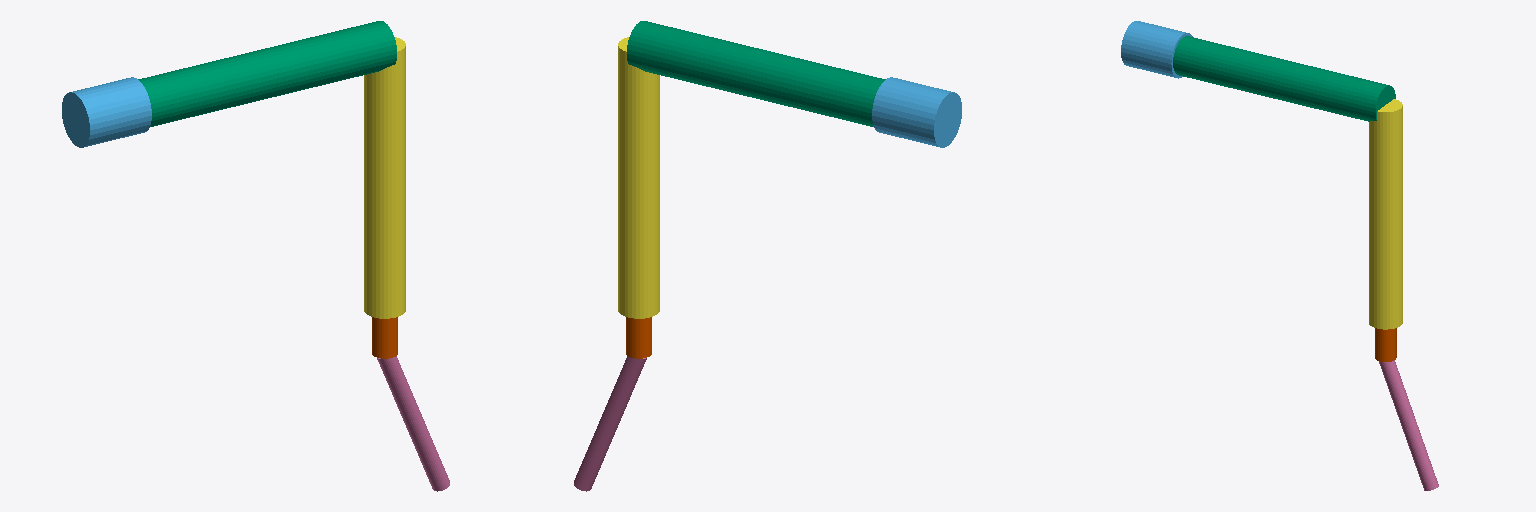
The robot description file, URDF, robot "fanuc_arc_mate_100id":
<?xml version="1.0"?>
<!--
  Fanuc ARC Mate 100iD
  GENERATED by weldforge.kin.urdf from data/robots/. Do not edit by
  hand: regenerate instead, or the URDF and the planner's kinematics
  will drift apart.

  Link inertias are placeholders (uniform boxes). Replace them with
  manufacturer data before using this model for dynamics.
-->
<robot name="fanuc_arc_mate_100id">

  <link name="base_link">
    <inertial>
      <origin xyz="0 0 0" rpy="0 0 0"/>
      <mass value="50.0000"/>
      <inertia ixx="0.750000" ixy="0" ixz="0" iyy="0.750000" iyz="0" izz="0.750000"/>
    </inertial>
  </link>

  <joint name="joint_1" type="revolute">
    <parent link="base_link"/>
    <child link="link_1"/>
    <origin xyz="0.000000000 -0.000000000 0.450000000" rpy="0.000000000 -0.000000000 0.000000000"/>
    <axis xyz="0 0 1"/>
    <limit lower="-2.967059728" upper="2.967059728" effort="1000" velocity="3.665191"/>
    <dynamics damping="0.5" friction="0.1"/>
  </joint>

  <link name="link_1">
    <inertial>
      <origin xyz="0 0 0" rpy="0 0 0"/>
      <mass value="40.0000"/>
      <inertia ixx="0.150000" ixy="0" ixz="0" iyy="0.150000" iyz="0" izz="0.150000"/>
    </inertial>
    <visual>
      <origin xyz="0.075000000 0.000000000 0.000000000" rpy="-0.000000000 1.570796327 0.000000000"/>
      <geometry><cylinder radius="0.0600" length="0.1500"/></geometry>
    </visual>
    <collision>
      <origin xyz="0.075000000 0.000000000 0.000000000" rpy="-0.000000000 1.570796327 0.000000000"/>
      <geometry><cylinder radius="0.0600" length="0.1500"/></geometry>
    </collision>
  </link>

  <joint name="joint_2" type="revolute">
    <parent link="link_1"/>
    <child link="link_2"/>
    <origin xyz="0.150000000 0.000000000 0.000000000" rpy="-1.570796327 0.000000000 0.000000000"/>
    <axis xyz="0 0 1"/>
    <limit lower="-1.745329252" upper="2.530727415" effort="1000" velocity="3.665191"/>
    <dynamics damping="0.5" friction="0.1"/>
  </joint>

  <link name="link_2">
    <inertial>
      <origin xyz="0 0 0" rpy="0 0 0"/>
      <mass value="35.0000"/>
      <inertia ixx="2.100000" ixy="0" ixz="0" iyy="2.100000" iyz="0" izz="2.100000"/>
    </inertial>
    <visual>
      <origin xyz="0.300000000 -0.000000000 0.000000000" rpy="-0.000000000 1.570796327 0.000000000"/>
      <geometry><cylinder radius="0.0520" length="0.6000"/></geometry>
    </visual>
    <collision>
      <origin xyz="0.300000000 -0.000000000 0.000000000" rpy="-0.000000000 1.570796327 0.000000000"/>
      <geometry><cylinder radius="0.0520" length="0.6000"/></geometry>
    </collision>
  </link>

  <joint name="joint_3" type="revolute">
    <parent link="link_2"/>
    <child link="link_3"/>
    <origin xyz="0.600000000 -0.000000000 0.000000000" rpy="0.000000000 -0.000000000 0.000000000"/>
    <axis xyz="0 0 1"/>
    <limit lower="-3.839724354" upper="4.363323130" effort="1000" velocity="3.926991"/>
    <dynamics damping="0.5" friction="0.1"/>
  </joint>

  <link name="link_3">
    <inertial>
      <origin xyz="0 0 0" rpy="0 0 0"/>
      <mass value="30.0000"/>
      <inertia ixx="1.891125" ixy="0" ixz="0" iyy="1.891125" iyz="0" izz="1.891125"/>
    </inertial>
    <visual>
      <origin xyz="0.000000000 0.307500000 0.000000000" rpy="-1.570796327 -0.000000000 0.000000000"/>
      <geometry><cylinder radius="0.0440" length="0.6150"/></geometry>
    </visual>
    <collision>
      <origin xyz="0.000000000 0.307500000 0.000000000" rpy="-1.570796327 -0.000000000 0.000000000"/>
      <geometry><cylinder radius="0.0440" length="0.6150"/></geometry>
    </collision>
  </link>

  <joint name="joint_4" type="revolute">
    <parent link="link_3"/>
    <child link="link_4"/>
    <origin xyz="0.000000000 0.615000000 0.000000000" rpy="-1.570796327 0.000000000 0.000000000"/>
    <axis xyz="0 0 1"/>
    <limit lower="-3.490658504" upper="3.490658504" effort="1000" velocity="7.417649"/>
    <dynamics damping="0.5" friction="0.1"/>
  </joint>

  <link name="link_4">
    <inertial>
      <origin xyz="0 0 0" rpy="0 0 0"/>
      <mass value="25.0000"/>
      <inertia ixx="0.010417" ixy="0" ixz="0" iyy="0.010417" iyz="0" izz="0.010417"/>
    </inertial>
  </link>

  <joint name="joint_5" type="revolute">
    <parent link="link_4"/>
    <child link="link_5"/>
    <origin xyz="0.000000000 -0.000000000 0.000000000" rpy="1.570796327 -0.000000000 0.000000000"/>
    <axis xyz="0 0 1"/>
    <limit lower="-2.443460953" upper="2.443460953" effort="1000" velocity="7.417649"/>
    <dynamics damping="0.5" friction="0.1"/>
  </joint>

  <link name="link_5">
    <inertial>
      <origin xyz="0 0 0" rpy="0 0 0"/>
      <mass value="20.0000"/>
      <inertia ixx="0.033333" ixy="0" ixz="0" iyy="0.033333" iyz="0" izz="0.033333"/>
    </inertial>
    <visual>
      <origin xyz="0.000000000 0.050000000 0.000000000" rpy="-1.570796327 -0.000000000 0.000000000"/>
      <geometry><cylinder radius="0.0280" length="0.1000"/></geometry>
    </visual>
    <collision>
      <origin xyz="0.000000000 0.050000000 0.000000000" rpy="-1.570796327 -0.000000000 0.000000000"/>
      <geometry><cylinder radius="0.0280" length="0.1000"/></geometry>
    </collision>
  </link>

  <joint name="joint_6" type="revolute">
    <parent link="link_5"/>
    <child link="link_6"/>
    <origin xyz="0.000000000 0.100000000 0.000000000" rpy="-1.570796327 0.000000000 0.000000000"/>
    <axis xyz="0 0 1"/>
    <limit lower="-7.853981634" upper="7.853981634" effort="1000" velocity="10.995574"/>
    <dynamics damping="0.5" friction="0.1"/>
  </joint>

  <link name="link_6">
    <inertial>
      <origin xyz="0 0 0" rpy="0 0 0"/>
      <mass value="15.0000"/>
      <inertia ixx="0.333062" ixy="0" ixz="0" iyy="0.333062" iyz="0" izz="0.333062"/>
    </inertial>
    <visual>
      <origin xyz="0.068365703 0.000000000 0.169211053" rpy="0.000000000 0.383972435 0.000000000"/>
      <geometry><cylinder radius="0.0200" length="0.3650"/></geometry>
    </visual>
    <collision>
      <origin xyz="0.068365703 0.000000000 0.169211053" rpy="0.000000000 0.383972435 0.000000000"/>
      <geometry><cylinder radius="0.0200" length="0.3650"/></geometry>
    </collision>
  </link>

  <joint name="joint_tool" type="fixed">
    <parent link="link_6"/>
    <child link="torch_tip"/>
    <origin xyz="0.136731407 0.000000000 0.338422107" rpy="0.000000000 0.383972435 0.000000000"/>
  </joint>

  <link name="torch_tip">
    <inertial>
      <origin xyz="0 0 0" rpy="0 0 0"/>
      <mass value="2.0000"/>
      <inertia ixx="0.000833" ixy="0" ixz="0" iyy="0.000833" iyz="0" izz="0.000833"/>
    </inertial>
  </link>

</robot>

--- Facts derived from the render (not from the file) ---
3 views of the same robot in one strip: view 1: azimuth 30°, elevation 25°; view 2: azimuth 150°, elevation 25°; view 3: azimuth 330°, elevation 25° (orthographic).
Robot: fanuc_arc_mate_100id — 8 links, 7 joints (6 revolute, 1 fixed); root link base_link; default pose: all joints at 0.
Visible links, largest first — view 1: link_2, link_3, link_1, link_6, link_5; view 2: link_2, link_3, link_1, link_6, link_5; view 3: link_2, link_3, link_1, link_6, link_5.
Link boxes in pixels (x1,y1,x2,y2): link_2: (138,21,396,126); link_3: (364,37,405,318); link_1: (62,77,151,147); link_6: (377,356,449,491); link_5: (372,317,397,358); link_2: (627,21,885,126); link_3: (618,37,659,318); link_1: (872,77,961,147); link_6: (574,356,646,491); link_5: (626,317,651,358); link_2: (1173,36,1395,121); link_3: (1369,99,1402,329); link_1: (1121,21,1192,78); link_6: (1379,360,1438,490); link_5: (1375,328,1396,361).
Bounding box of the posed robot: 0.9053 × 0.12 × 1.12 m (x, y, z).
Geometry: primitives only (box / cylinder / sphere), no mesh files.
